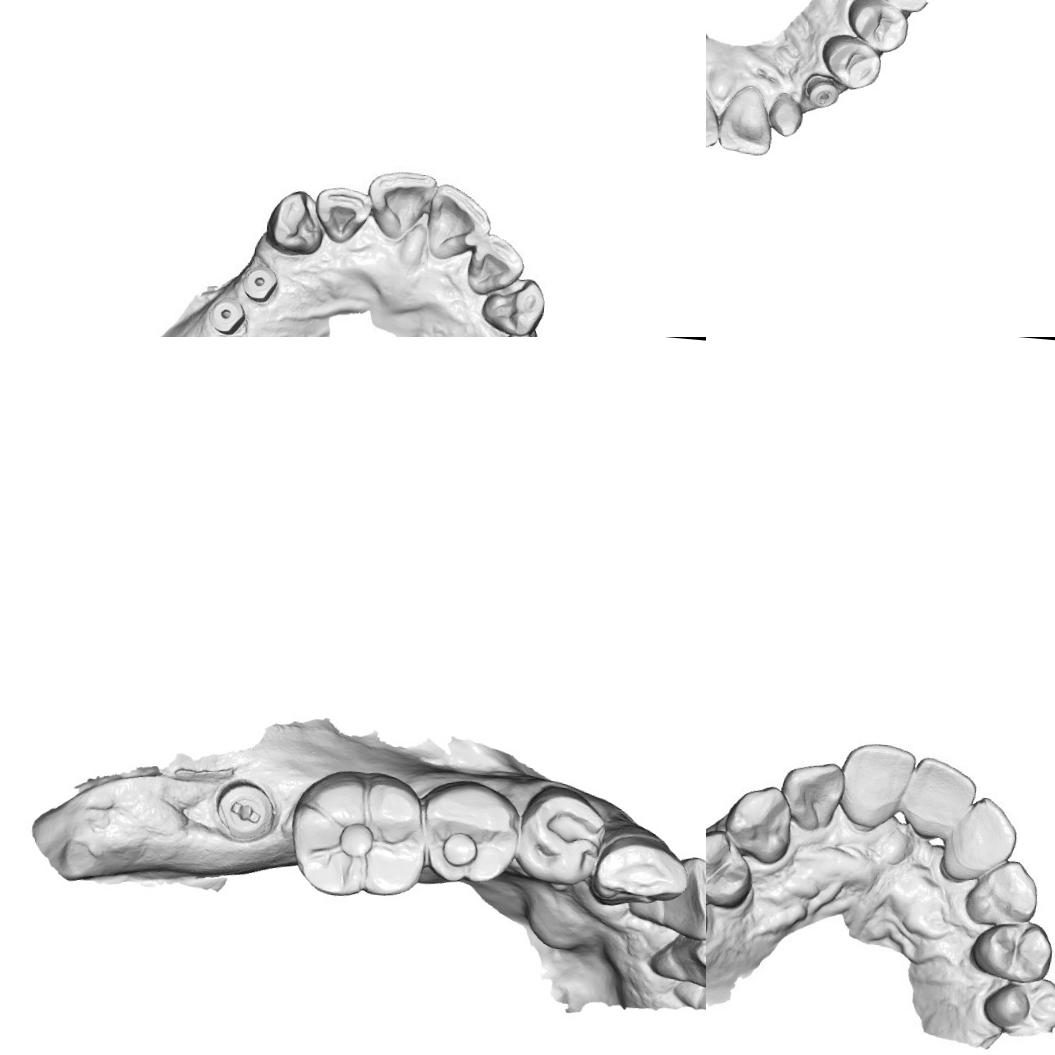canine: (588, 814, 695, 914), (962, 853, 1044, 930), (726, 780, 794, 857), (479, 274, 547, 336), (266, 186, 326, 256)
implant: (240, 264, 280, 302), (206, 294, 244, 333)
implant_minus: (210, 775, 278, 846), (802, 70, 842, 110)
incisor: (622, 849, 706, 944), (834, 738, 914, 832), (898, 752, 978, 843), (940, 794, 1022, 881), (364, 164, 438, 247), (420, 183, 494, 263), (775, 756, 847, 834), (714, 81, 776, 156), (645, 926, 706, 1002), (462, 229, 528, 298), (312, 182, 375, 244), (765, 90, 805, 138), (706, 74, 724, 150)
molar: (284, 763, 432, 904)
premolar: (417, 774, 527, 889), (514, 779, 610, 890), (978, 918, 1054, 982), (986, 976, 1055, 1036), (818, 30, 884, 92), (843, 0, 911, 54), (706, 833, 757, 902)
